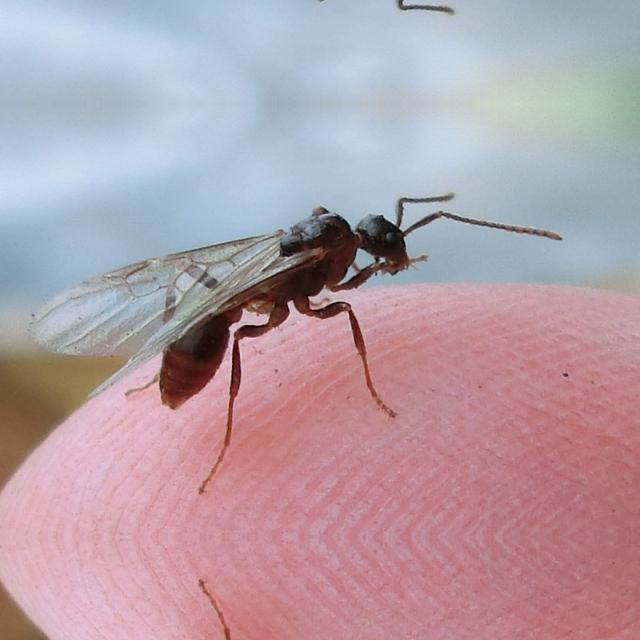Myrmica: (88, 173, 484, 439)
